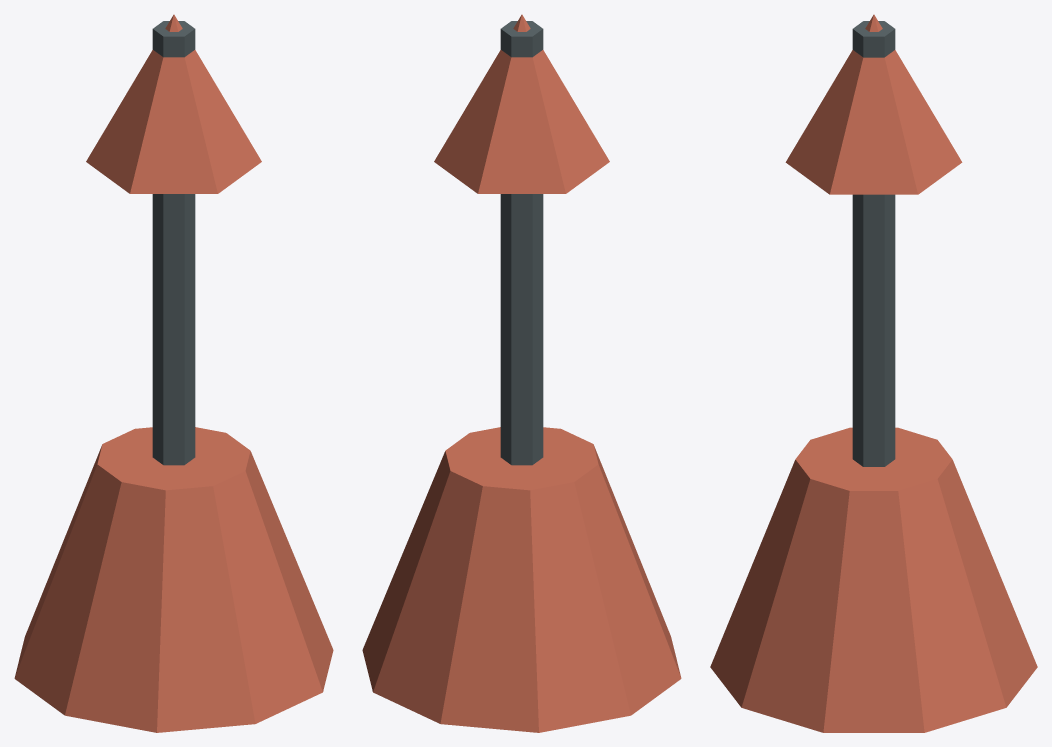
Rendered from buoy.glb.
3 views of the same model, side by side, from view 1: azimuth 30°, elevation 25°; view 2: azimuth 150°, elevation 25°; view 3: azimuth 270°, elevation 25° (orthographic).
Visible parts, largest first — view 1: Float, Mark, Mast; view 2: Float, Mark, Mast; view 3: Float, Mark, Mast.
Boxes of the visible parts, box(x1,y1,x2,y2) form: Float: box(14, 427, 333, 732); Mark: box(86, 14, 261, 193); Mast: box(152, 21, 195, 465); Float: box(362, 427, 681, 732); Mark: box(434, 14, 609, 193); Mast: box(500, 21, 543, 465); Float: box(710, 427, 1037, 732); Mark: box(785, 14, 962, 194); Mast: box(852, 21, 895, 466).
Bounding box in the file's own units: 0.9511 × 2.2 × 1.
